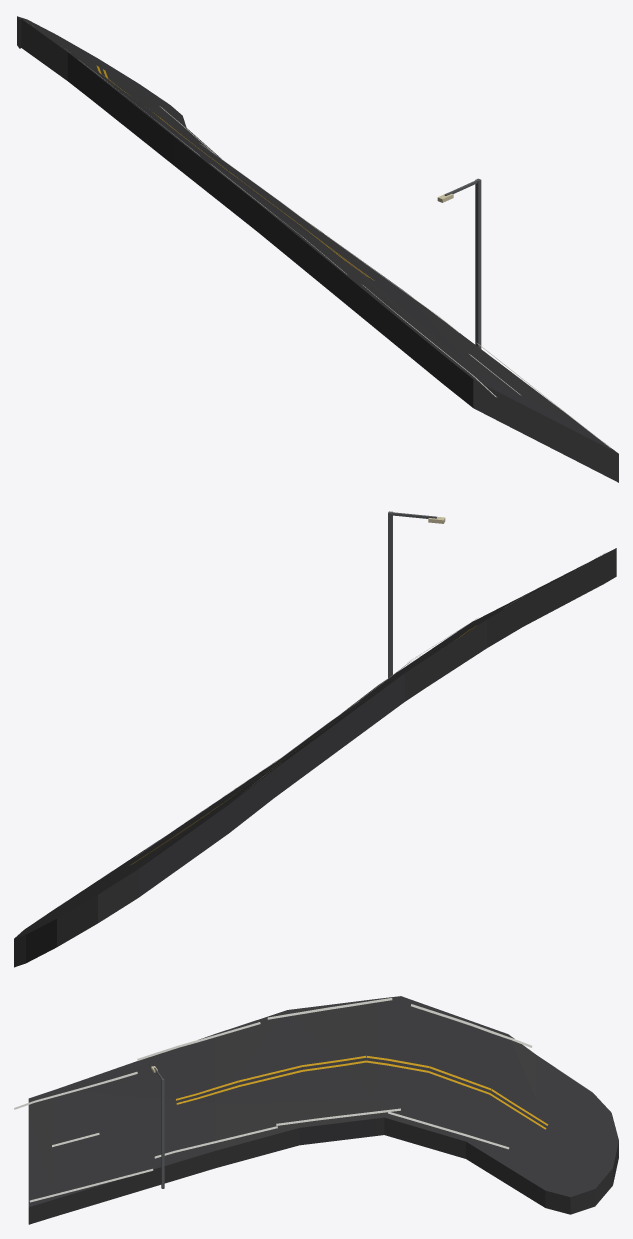
The picture shows the model from 3 angles, top to bottom: view 1: azimuth 30°, elevation 25°; view 2: azimuth 150°, elevation 25°; view 3: azimuth 270°, elevation 25°; orthographic projection. The views are drawn at different scales.
Bounding box in the file's own units: 10.54 × 10.85 × 37.66.
